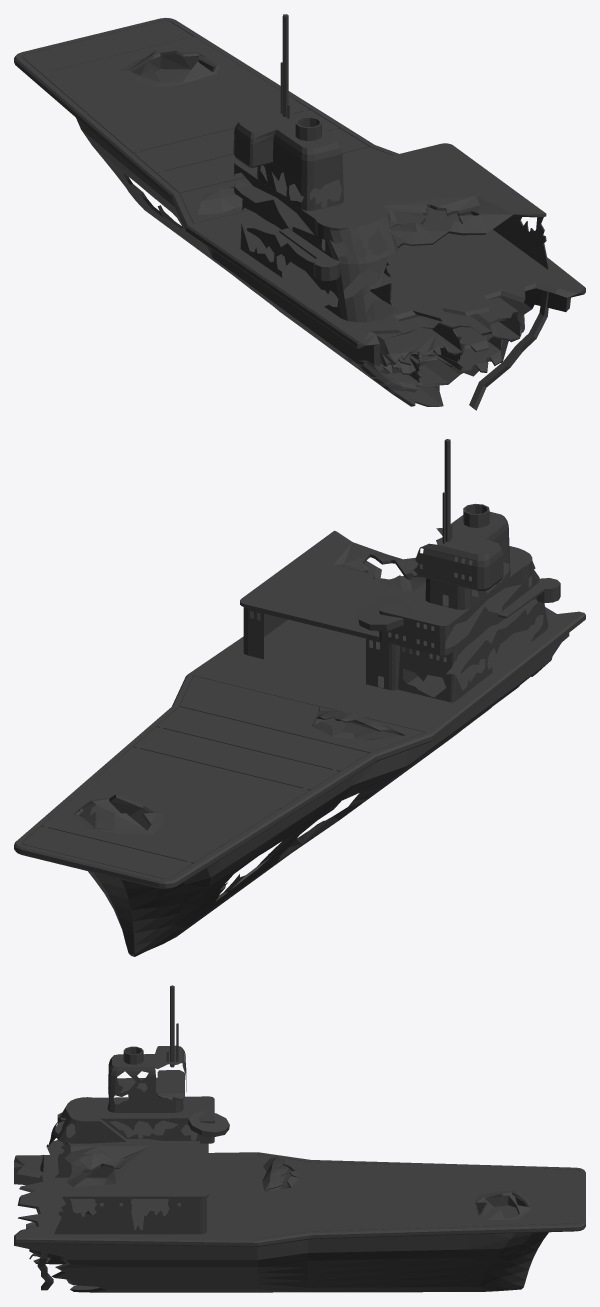
The model's file is mesh_1979_Carrier_Billboard.glb.
3 renders of one model, top to bottom at view 1: azimuth 30°, elevation 25°; view 2: azimuth 150°, elevation 25°; view 3: azimuth 270°, elevation 25°, orthographic. The views are drawn at different scales.
Visible parts, largest first — view 1: Carrier_Billboard; view 2: Carrier_Billboard; view 3: Carrier_Billboard.
Part boxes in pixels (<box>): Carrier_Billboard: <box>14,14,585,410</box>; Carrier_Billboard: <box>14,439,585,956</box>; Carrier_Billboard: <box>14,985,585,1292</box>.
Size of the model in its own units: 49.27 by 68.54 by 130.
Materials: 1 (1 with a texture image).
